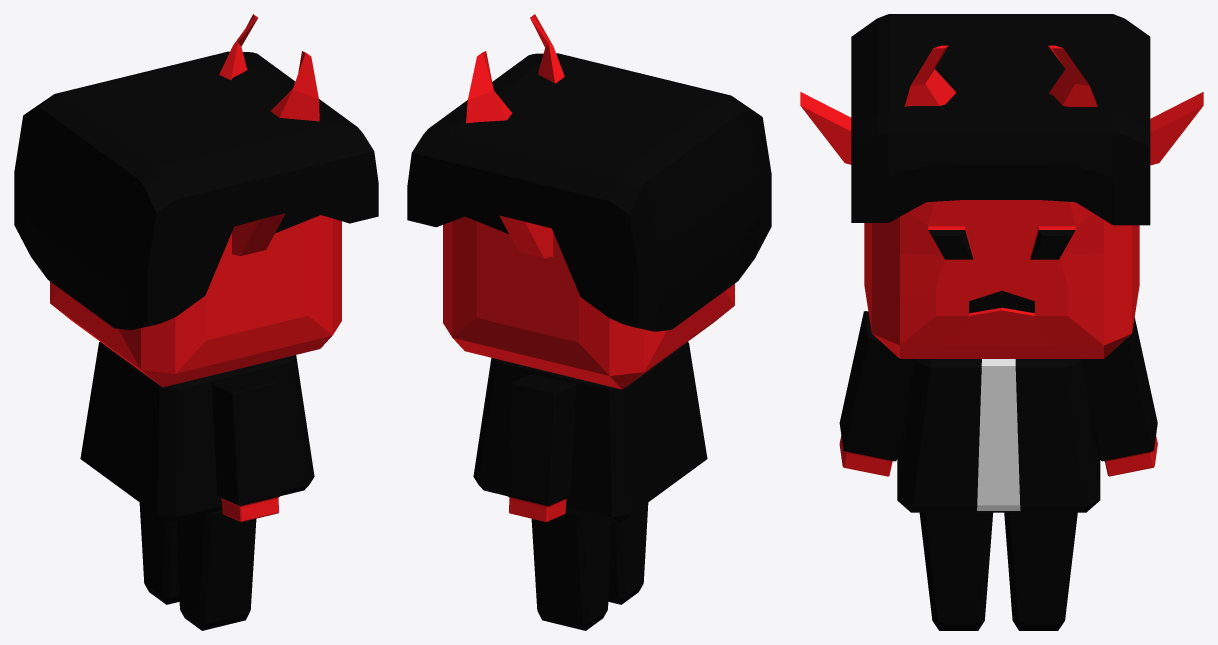
The model's file is DevilModel_1.fbx.
The picture shows the model from 3 angles, left to right: view 1: azimuth 30°, elevation 25°; view 2: azimuth 150°, elevation 25°; view 3: azimuth 270°, elevation 25°; orthographic projection. The views are drawn at different scales.
Visible parts, largest first — view 1: Cube.002, Head, Torso, LegLeft, Cube.001; view 2: Cube.002, Head, Torso, LegLeft, Cube.001; view 3: Cube.002, Head, Torso, Cube.001, LegLeft.
Boxes of the visible parts, x1,y1,x2,y2 form: Cube.002: (14, 51, 378, 329); Head: (50, 14, 341, 387); Torso: (80, 342, 314, 523); LegLeft: (139, 502, 256, 630); Cube.001: (212, 374, 282, 522); Cube.002: (407, 53, 771, 331); Head: (443, 14, 734, 389); Torso: (473, 342, 707, 523); LegLeft: (531, 503, 648, 630); Cube.001: (505, 374, 575, 522); Cube.002: (851, 14, 1150, 225); Head: (800, 45, 1203, 358); Torso: (897, 359, 1100, 512); Cube.001: (839, 311, 1157, 476); LegLeft: (919, 512, 1077, 630).
Size of the model in its own units: 208 by 456 by 270.
